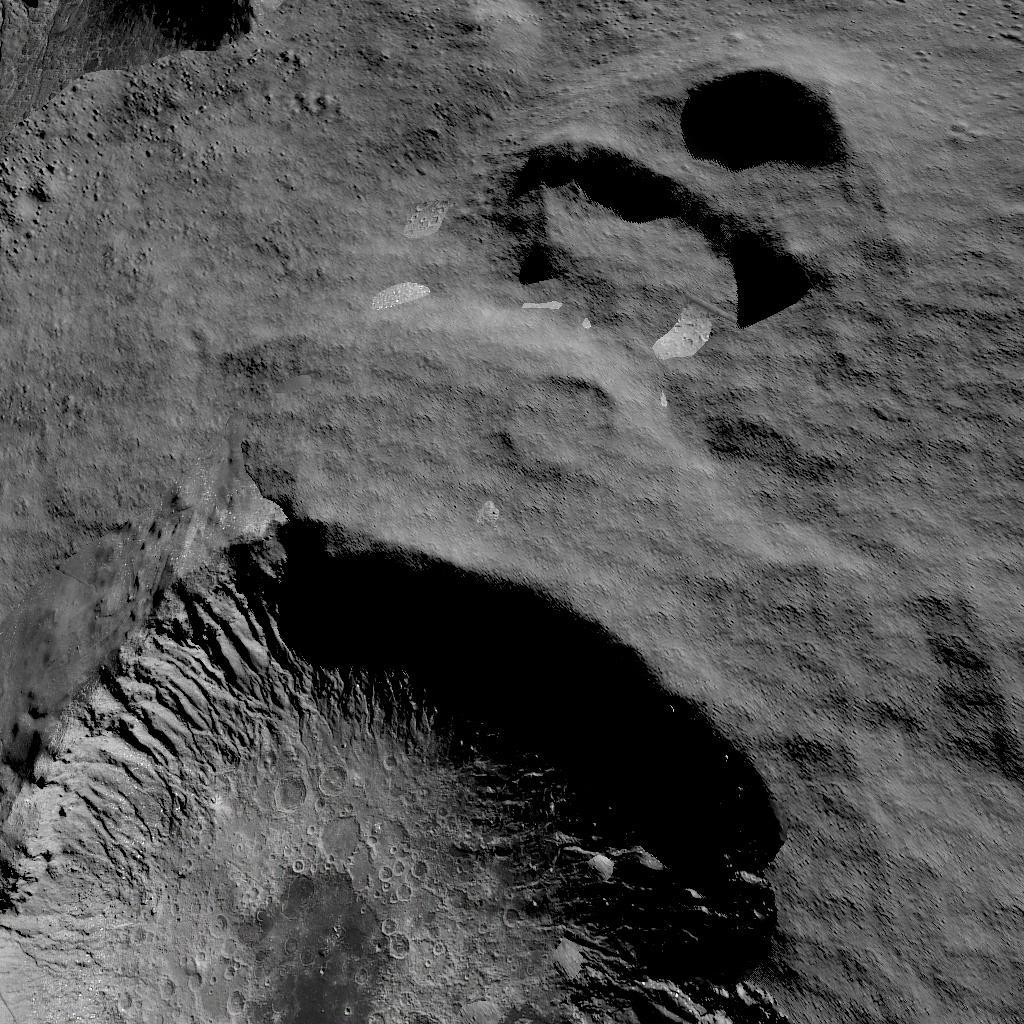Boulders: (0, 0, 328, 262)
Crater: (0, 508, 834, 1024), (523, 36, 898, 313), (511, 356, 648, 486)
Plan surface: (9, 276, 487, 498)
